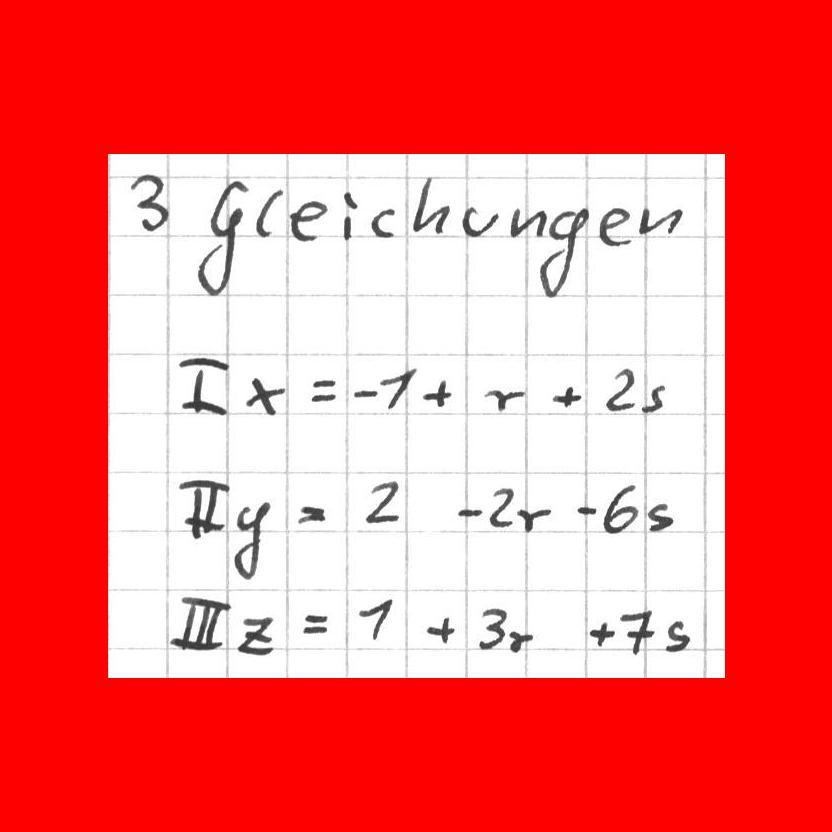Char: (193, 177, 250, 300), (538, 207, 590, 298), (176, 359, 234, 415), (179, 478, 230, 538), (231, 501, 269, 580), (128, 168, 171, 235), (177, 597, 231, 650), (410, 174, 452, 241), (361, 478, 401, 530), (242, 373, 285, 419), (234, 613, 280, 656), (355, 595, 394, 645), (616, 608, 654, 655), (287, 199, 329, 241), (602, 486, 640, 532), (637, 204, 685, 238), (597, 203, 633, 248), (458, 203, 504, 238), (603, 365, 634, 415), (255, 186, 283, 240), (378, 368, 412, 412), (481, 383, 527, 414), (477, 606, 507, 652), (508, 204, 546, 240), (515, 503, 553, 535), (338, 188, 359, 244), (488, 484, 514, 529), (423, 614, 455, 646), (307, 374, 340, 405), (368, 204, 396, 240), (645, 500, 675, 533), (639, 379, 667, 414), (663, 618, 690, 654), (421, 377, 452, 408), (549, 382, 583, 410), (294, 501, 327, 527), (299, 608, 330, 635), (588, 618, 614, 647), (508, 627, 534, 655), (350, 384, 377, 402), (574, 500, 598, 517), (456, 505, 482, 519)
